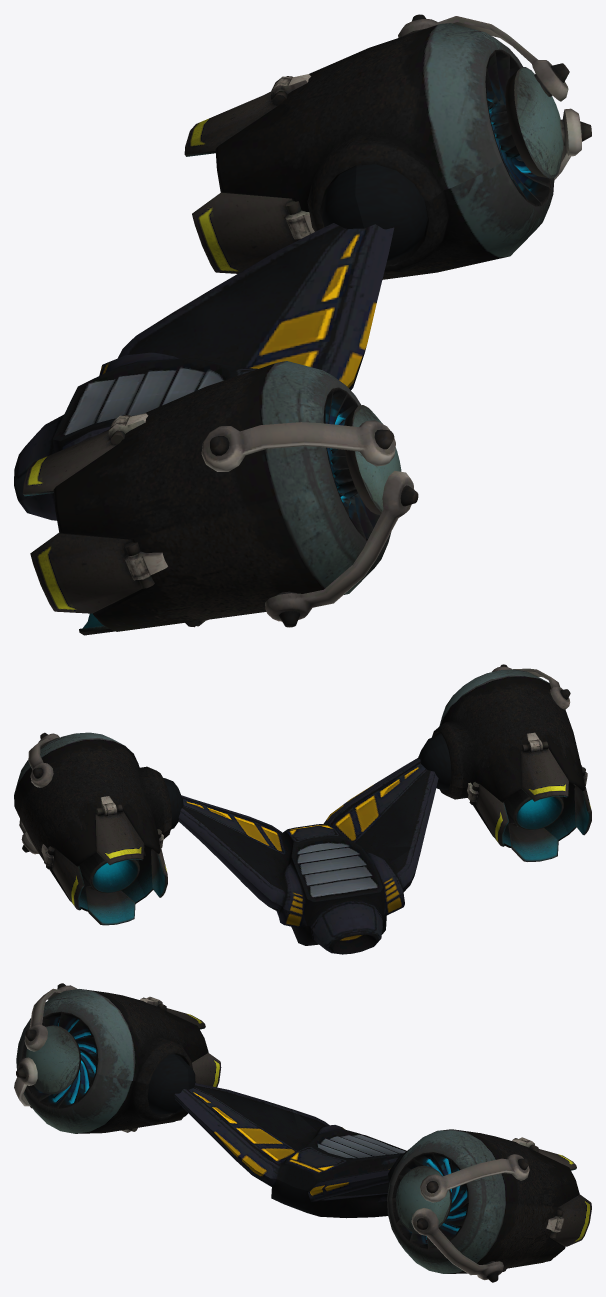
File: Jet.fbx
The picture shows the model from 3 angles, top to bottom: view 1: azimuth 30°, elevation 25°; view 2: azimuth 150°, elevation 25°; view 3: azimuth 270°, elevation 25°; orthographic projection. The views are drawn at different scales.
Parts seen in each view (by area): view 1: GetpackThruster1; view 2: GetpackThruster1; view 3: GetpackThruster1.
Boxes of the visible parts, x1,y1,x2,y2 form: GetpackThruster1: (14,14,591,635); GetpackThruster1: (14,664,591,954); GetpackThruster1: (14,983,591,1282).
Size of the model in its own units: 7.02 by 2.85 by 7.45.
